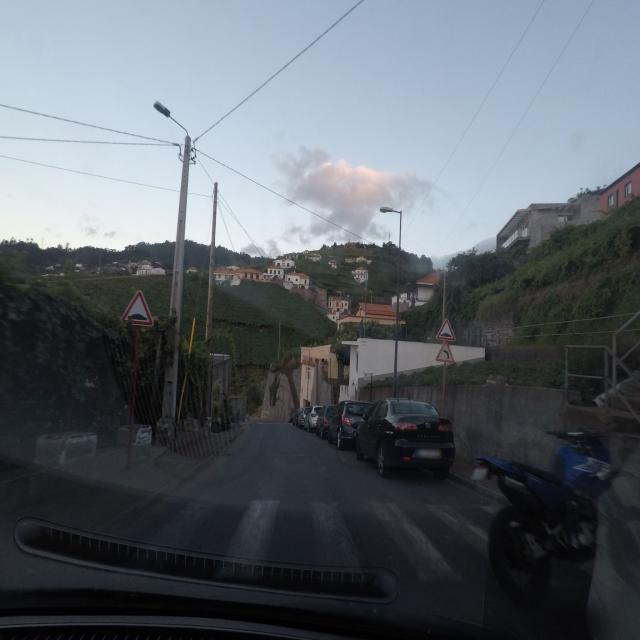bike: (484, 392, 640, 635), (579, 350, 640, 639)
car: (355, 398, 456, 478), (328, 399, 372, 449), (316, 404, 336, 438), (306, 406, 324, 432), (299, 406, 312, 428), (294, 408, 302, 425), (288, 408, 296, 423)
